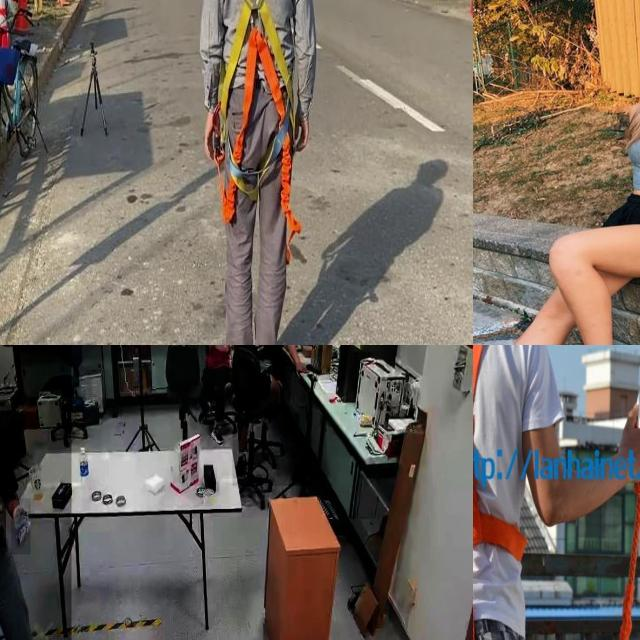Harness: (218, 0, 302, 242), (473, 345, 518, 556)
hand_glove: (11, 498, 31, 554)
hand_noglove: (294, 362, 310, 378)
person: (0, 345, 72, 640), (232, 345, 311, 486), (202, 345, 235, 432)
